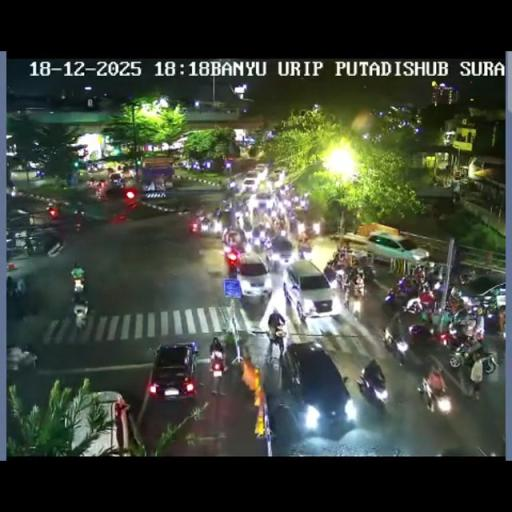Car: (282, 342, 352, 430), (62, 390, 134, 456), (148, 342, 198, 402), (287, 260, 337, 318), (362, 231, 430, 266), (234, 252, 271, 298), (140, 158, 174, 196), (193, 208, 222, 236), (268, 235, 294, 264), (222, 226, 246, 256), (107, 172, 125, 190), (268, 167, 286, 183), (255, 190, 274, 205), (242, 177, 259, 193), (228, 175, 243, 193), (253, 163, 269, 179)
Motorcycle: (446, 336, 496, 374), (418, 366, 452, 414), (270, 401, 302, 442), (355, 368, 385, 408), (384, 277, 420, 309), (382, 326, 409, 365), (6, 276, 28, 318), (426, 320, 456, 348), (482, 302, 504, 336), (210, 349, 226, 394), (267, 320, 286, 356), (431, 279, 459, 303), (356, 260, 378, 286), (346, 286, 362, 320), (16, 350, 38, 371), (428, 263, 446, 286), (323, 258, 340, 282), (72, 281, 88, 306), (46, 239, 65, 258), (286, 215, 300, 239), (4, 235, 18, 259), (74, 307, 88, 330), (298, 240, 312, 259), (24, 234, 36, 256), (418, 278, 432, 296), (458, 272, 473, 286), (94, 182, 105, 200), (220, 197, 233, 212), (297, 195, 309, 211), (234, 209, 244, 228), (262, 236, 272, 250), (74, 217, 82, 232), (312, 221, 320, 235), (89, 177, 96, 188), (280, 227, 286, 238)
